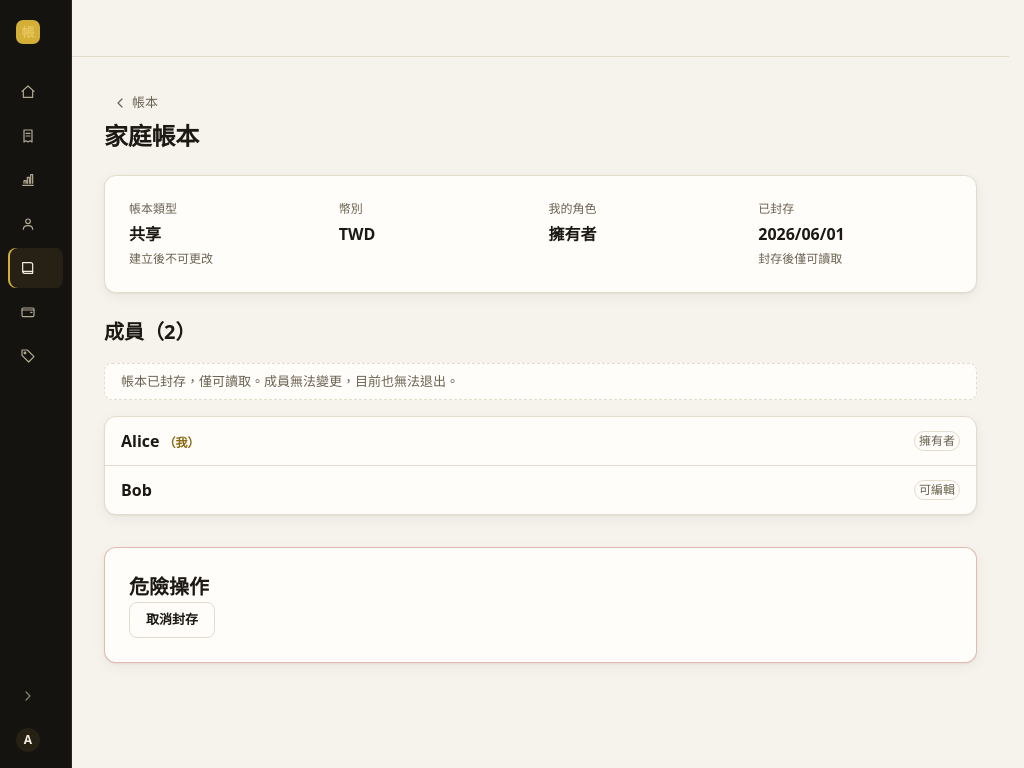
Test: Ledger detail page › shows unarchive only to the owner and refreshes the ledger list after success
This screenshot has width=1024, height=768.
Click the button "取消封存" at [172, 620], box left=129, top=602, right=215, bottom=638
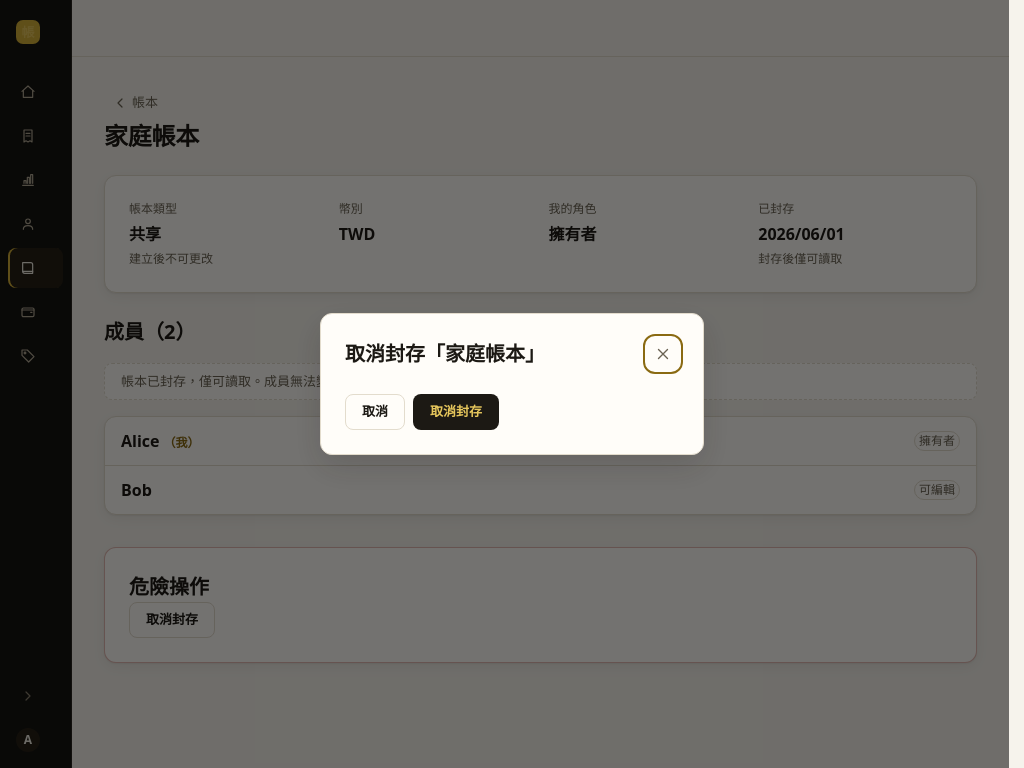
Check: the dialog "取消封存「家庭帳本」" is shown, box left=320, top=313, right=704, bottom=455
Click the button "取消封存" at [456, 412], box left=413, top=394, right=499, bottom=430
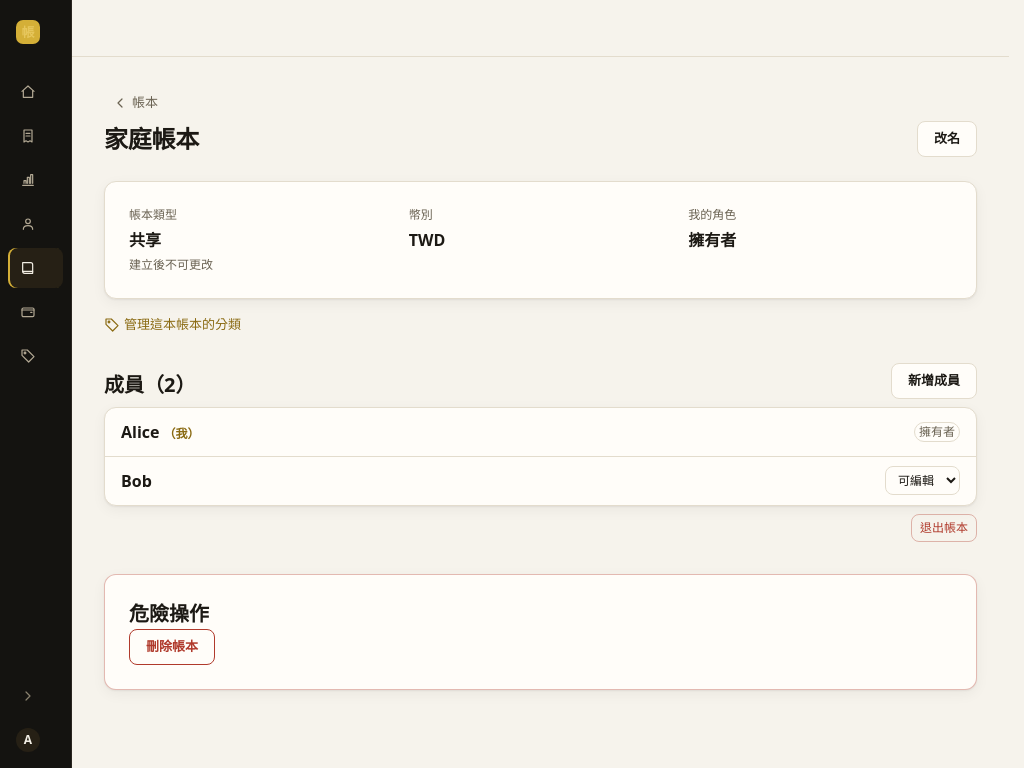
Check: the button "刪除帳本" is shown, box left=129, top=628, right=215, bottom=664
Check: the button "取消封存" is gone
